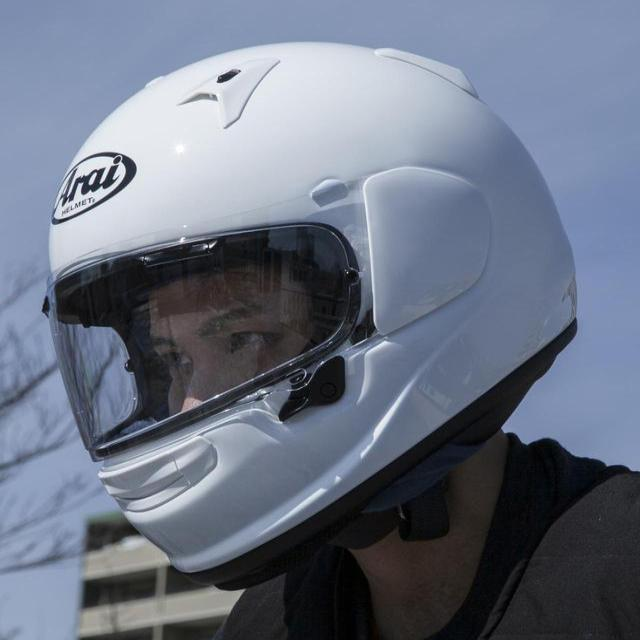helmet: (34, 33, 596, 598)
